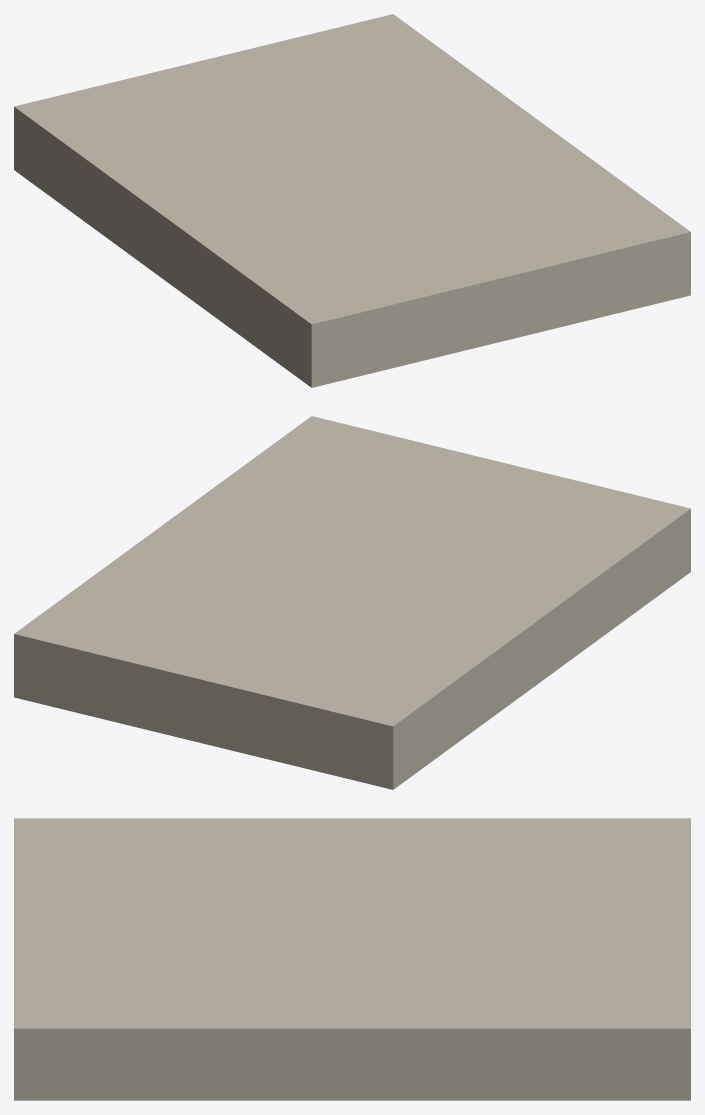
File: cutlery_tray.glb
3 renders of one model, top to bottom at view 1: azimuth 30°, elevation 25°; view 2: azimuth 150°, elevation 25°; view 3: azimuth 270°, elevation 25°, orthographic. The views are drawn at different scales.
Parts seen in each view (by area): view 1: body; view 2: body; view 3: body.
Part boxes in pixels (bbox=[...]): body: bbox=[14, 14, 690, 387]; body: bbox=[14, 416, 690, 789]; body: bbox=[14, 818, 690, 1100].
Bounding box in the file's own units: 0.25 × 0.04 × 0.34.
